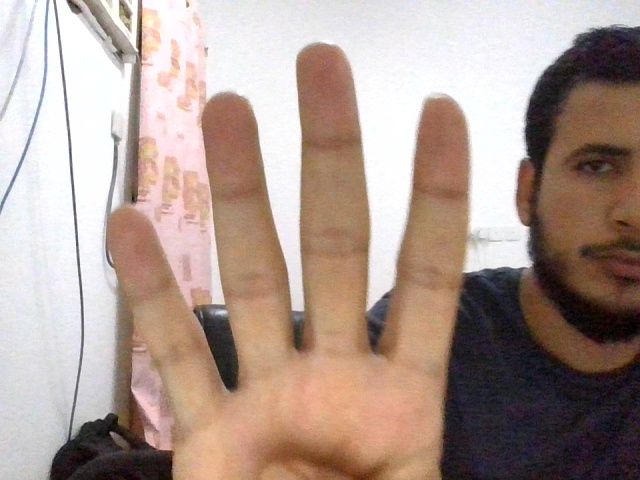Four: (106, 41, 472, 480)
